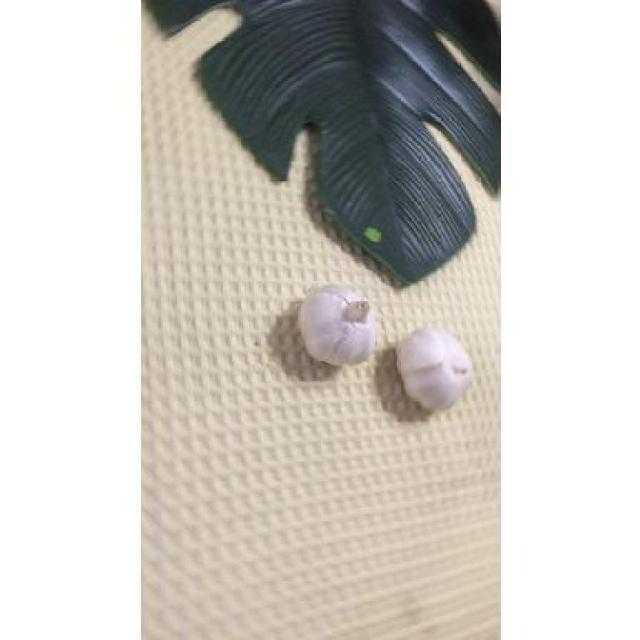Garlic: (390, 318, 485, 432), (287, 276, 388, 378)
